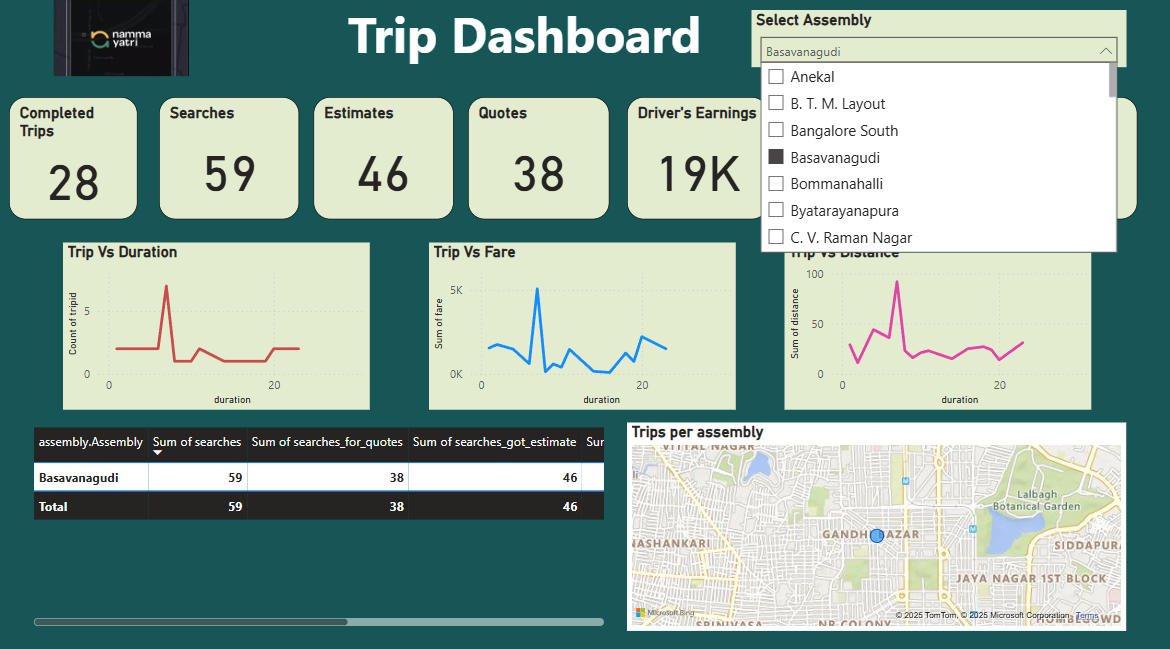

This screenshot's page, from the dashboard's own definition file:
{"tool":"powerbi","page":{"name":"Page 1","canvas":[1280,720],"ordinal":0},"visuals":[{"type":"card","title":"Completed Trips","fields":{"Values":["Sum(trip_details.end_ride)"]},"box":[15.5,110.3,139.7,132.8],"z":0},{"type":"card","title":"Searches","fields":{"Values":["Sum(trip_details.searches)"]},"box":[179.3,110.3,151.7,132.8],"z":1000},{"type":"card","title":"Estimates","fields":{"Values":["Sum(trip_details.searches_got_estimate)"]},"box":[346.6,110.3,151.7,132.8],"z":2000},{"type":"card","title":"Quotes","fields":{"Values":["Sum(trip_details.searches_for_quotes)"]},"box":[513.8,110.3,153.4,132.8],"z":3000},{"type":"card","title":"Driver''s Earnings","fields":{"Values":["Sum(trips.fare)"]},"box":[686.2,110.3,153.4,132.8],"z":4000},{"type":"gauge","fields":{"Y":["assembly.Conversion Rate"]},"box":[856.9,110.3,382.8,132.8],"z":5000},{"type":"lineChart","title":"Trip Vs Duration","fields":{"Category":["trips.duration"],"Y":["CountNonNull(trips.tripid)"]},"box":[74.1,269,332.8,181],"z":6000},{"type":"lineChart","title":"Trip Vs Fare","fields":{"Category":["trips.duration"],"Y":["Sum(trips.fare)"]},"box":[472.4,269,332.8,181],"z":7000},{"type":"lineChart","title":"Trip Vs Distance","fields":{"Category":["trips.duration"],"Y":["Sum(trips.distance)"]},"box":[856.9,269,332.8,181],"z":8000},{"type":"tableEx","fields":{"Values":["Merge2.assembly.Assembly","Sum(Merge2.searches)","Sum(Merge2.searches_for_quotes)","Sum(Merge2.searches_got_estimate)","Sum(Merge2.searches_got_quotes)","Sum(Merge2.trips.fare)","Sum(Merge2.trips.distance)","assembly.Conversion Rate"]},"box":[37.9,463.8,629.3,225.9],"z":8001},{"type":"map","title":"Trips per assembly","fields":{"Category":["Merge2.assembly.Assembly"],"Size":["CountNonNull(Merge2.tripid)"]},"box":[686.2,463.8,541.4,225.9],"z":8002},{"type":"image","box":[0,0,275.9,93.1],"z":8003},{"type":"textbox","box":[294.8,0,562.1,93.1],"z":8004},{"type":"slicer","title":"Select Assembly","fields":{"Values":["Merge2.assembly.Assembly"]},"box":[820.7,15.5,406.9,62.1],"z":8005}]}

Visuals, with their boxes in screenshot pixels (x1, y1, x2, y2), scaled from the page's 1280x720 canvas onto the 1170x649 screenshot:
"Completed Trips" card: locate(14, 99, 142, 219)
"Searches" card: locate(164, 99, 303, 219)
"Estimates" card: locate(317, 99, 455, 219)
"Quotes" card: locate(470, 99, 610, 219)
"Driver''s Earnings" card: locate(627, 99, 767, 219)
gauge - assembly.Conversion Rate: locate(783, 99, 1133, 219)
"Trip Vs Duration" lineChart: locate(68, 242, 372, 406)
"Trip Vs Fare" lineChart: locate(432, 242, 736, 406)
"Trip Vs Distance" lineChart: locate(783, 242, 1087, 406)
tableEx - Merge2.assembly.Assembly x Sum(Merge2.searches): locate(35, 418, 610, 622)
"Trips per assembly" map: locate(627, 418, 1122, 622)
image: locate(0, 0, 252, 84)
textbox: locate(269, 0, 783, 84)
"Select Assembly" slicer: locate(750, 14, 1122, 70)
